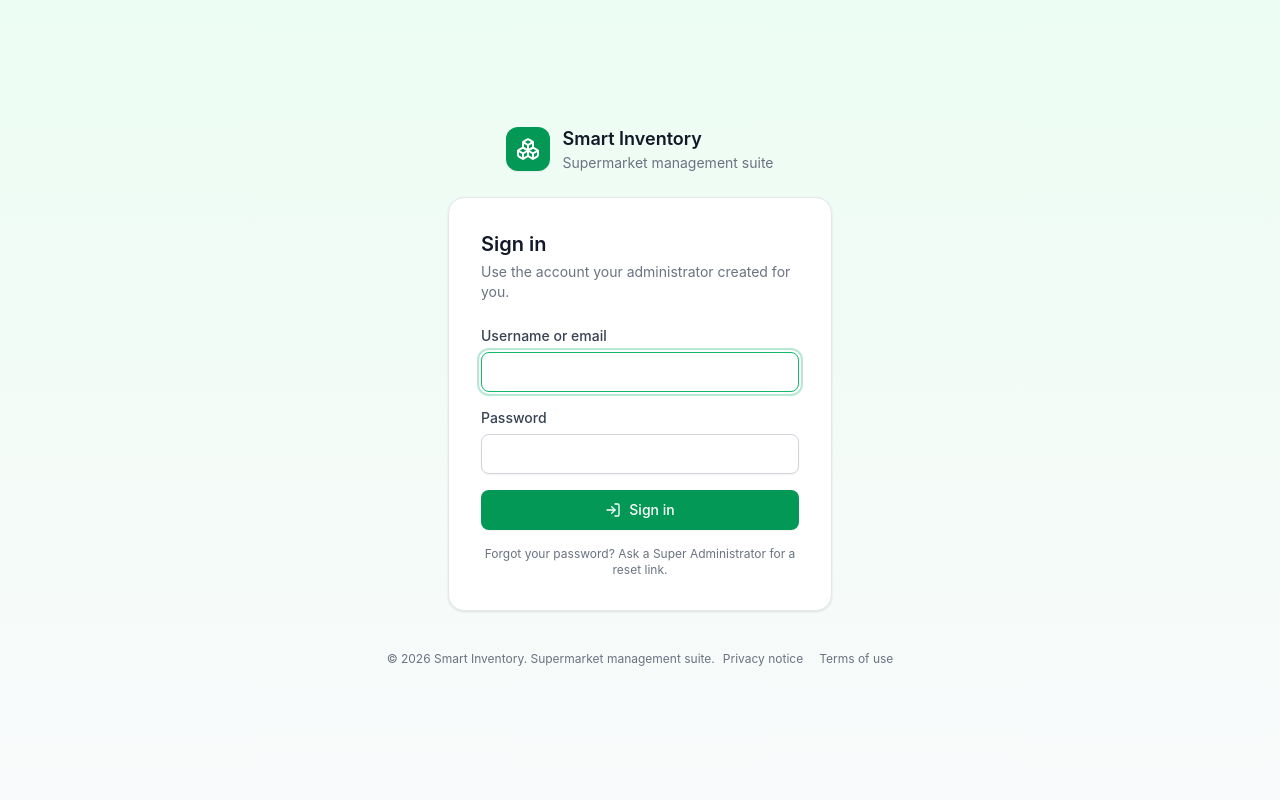
Test case: LoginPage › shows the server error message on failure
Type "amina" into the field labelled "Username or email".
click(640, 372); type("amina")  # box [481,352,799,392]
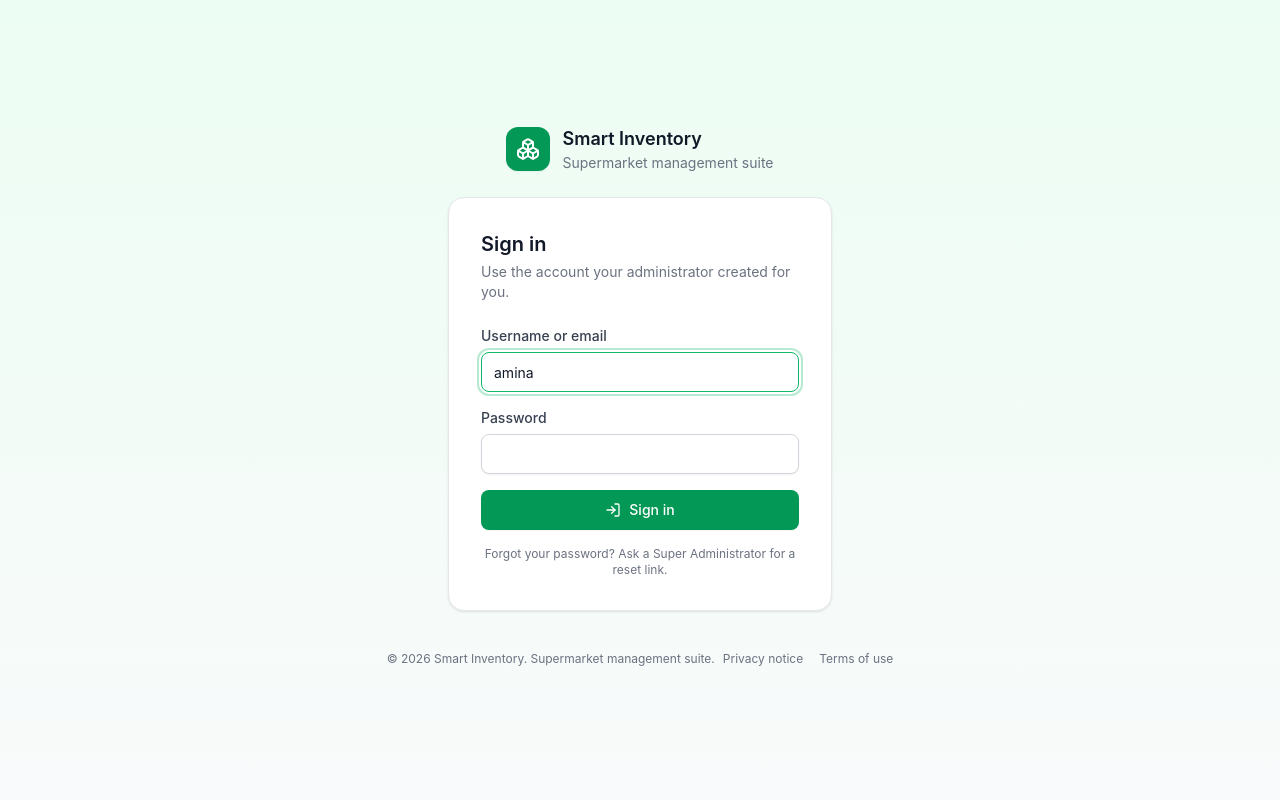
Type "wrong-one-1" into the password field labelled "Password".
click(640, 454); type("wrong-one-1")  # box [481,434,799,474]
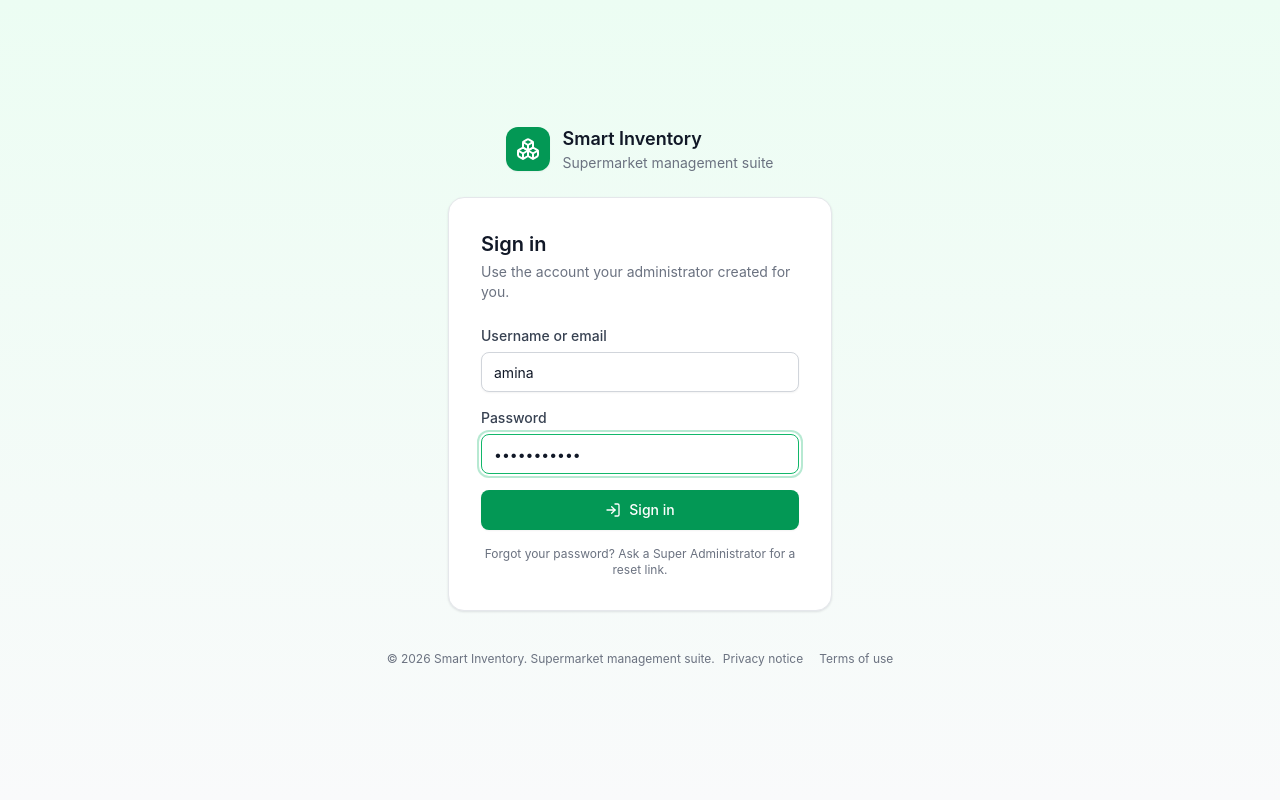
Click the button "Sign in".
click(640, 510)  # box [481,490,799,530]
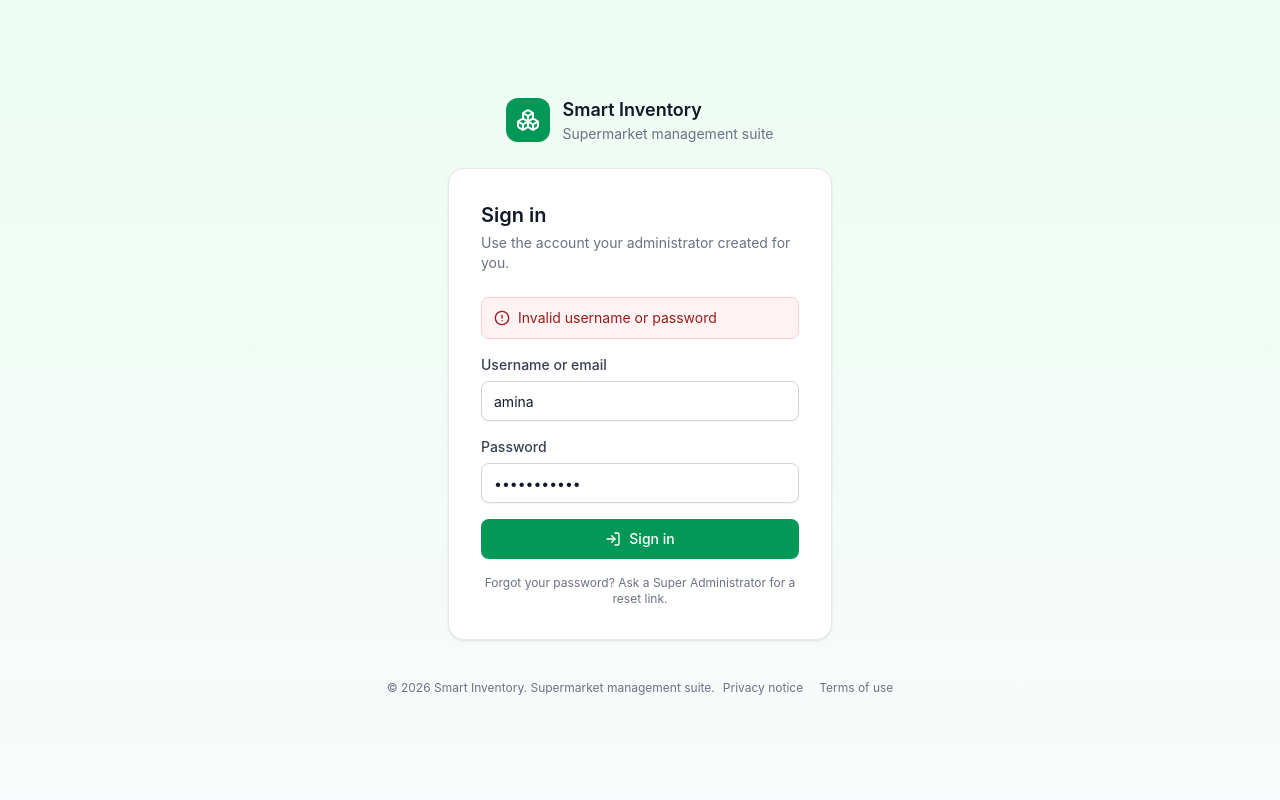
Now the message reads "Invalid username or password", box [518,309,717,326]
